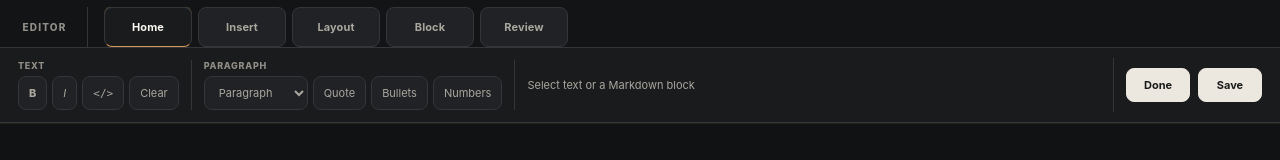
EditorRibbon visual editing controls › does not show profile-incompatible controls as dead disabled buttons
This screenshot has width=1280, height=160.
What coordinates should you click on to do the following:
click the tab "Insert"
I would click on:
 (242, 27)
Its box is [198,7,286,47].
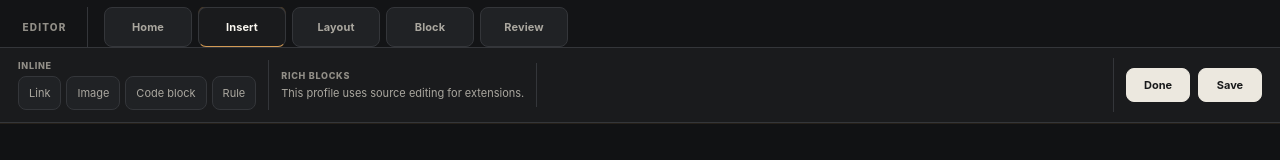
Expected: the text "This profile uses source editing for extensions." is shown, [281,86,524,100]
